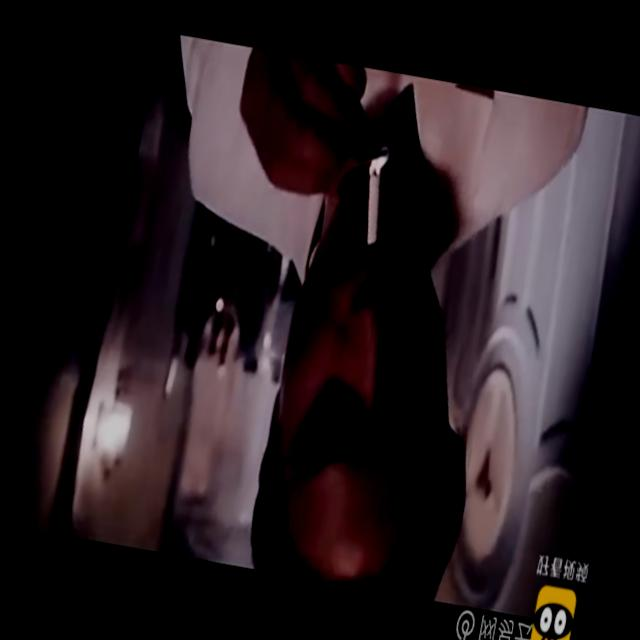cigarette: (354, 142, 402, 255)
